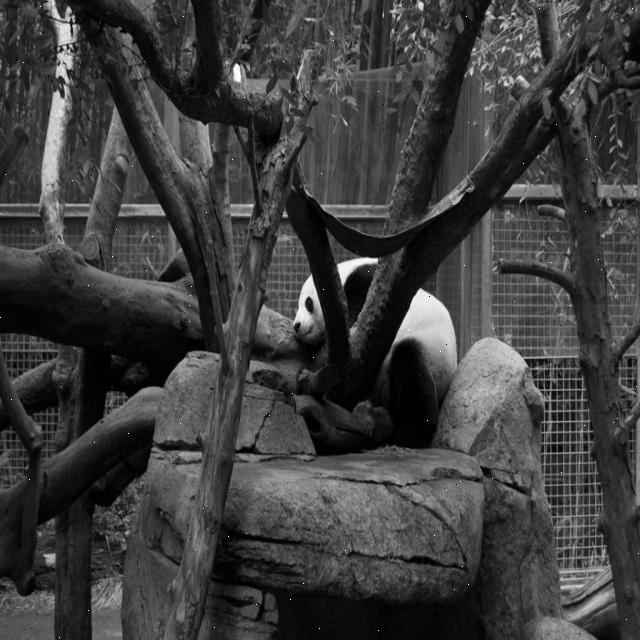panda: (290, 252, 457, 451)
